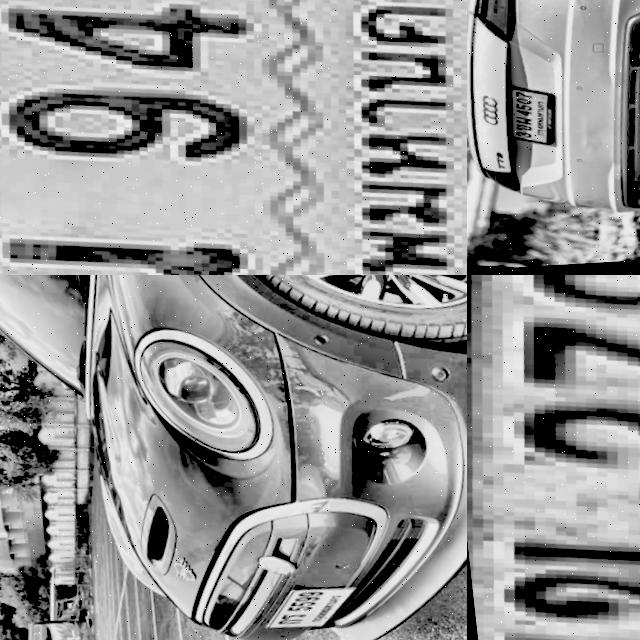license-plate: (0, 0, 467, 275), (467, 275, 640, 640), (244, 578, 352, 640), (487, 85, 551, 153)
